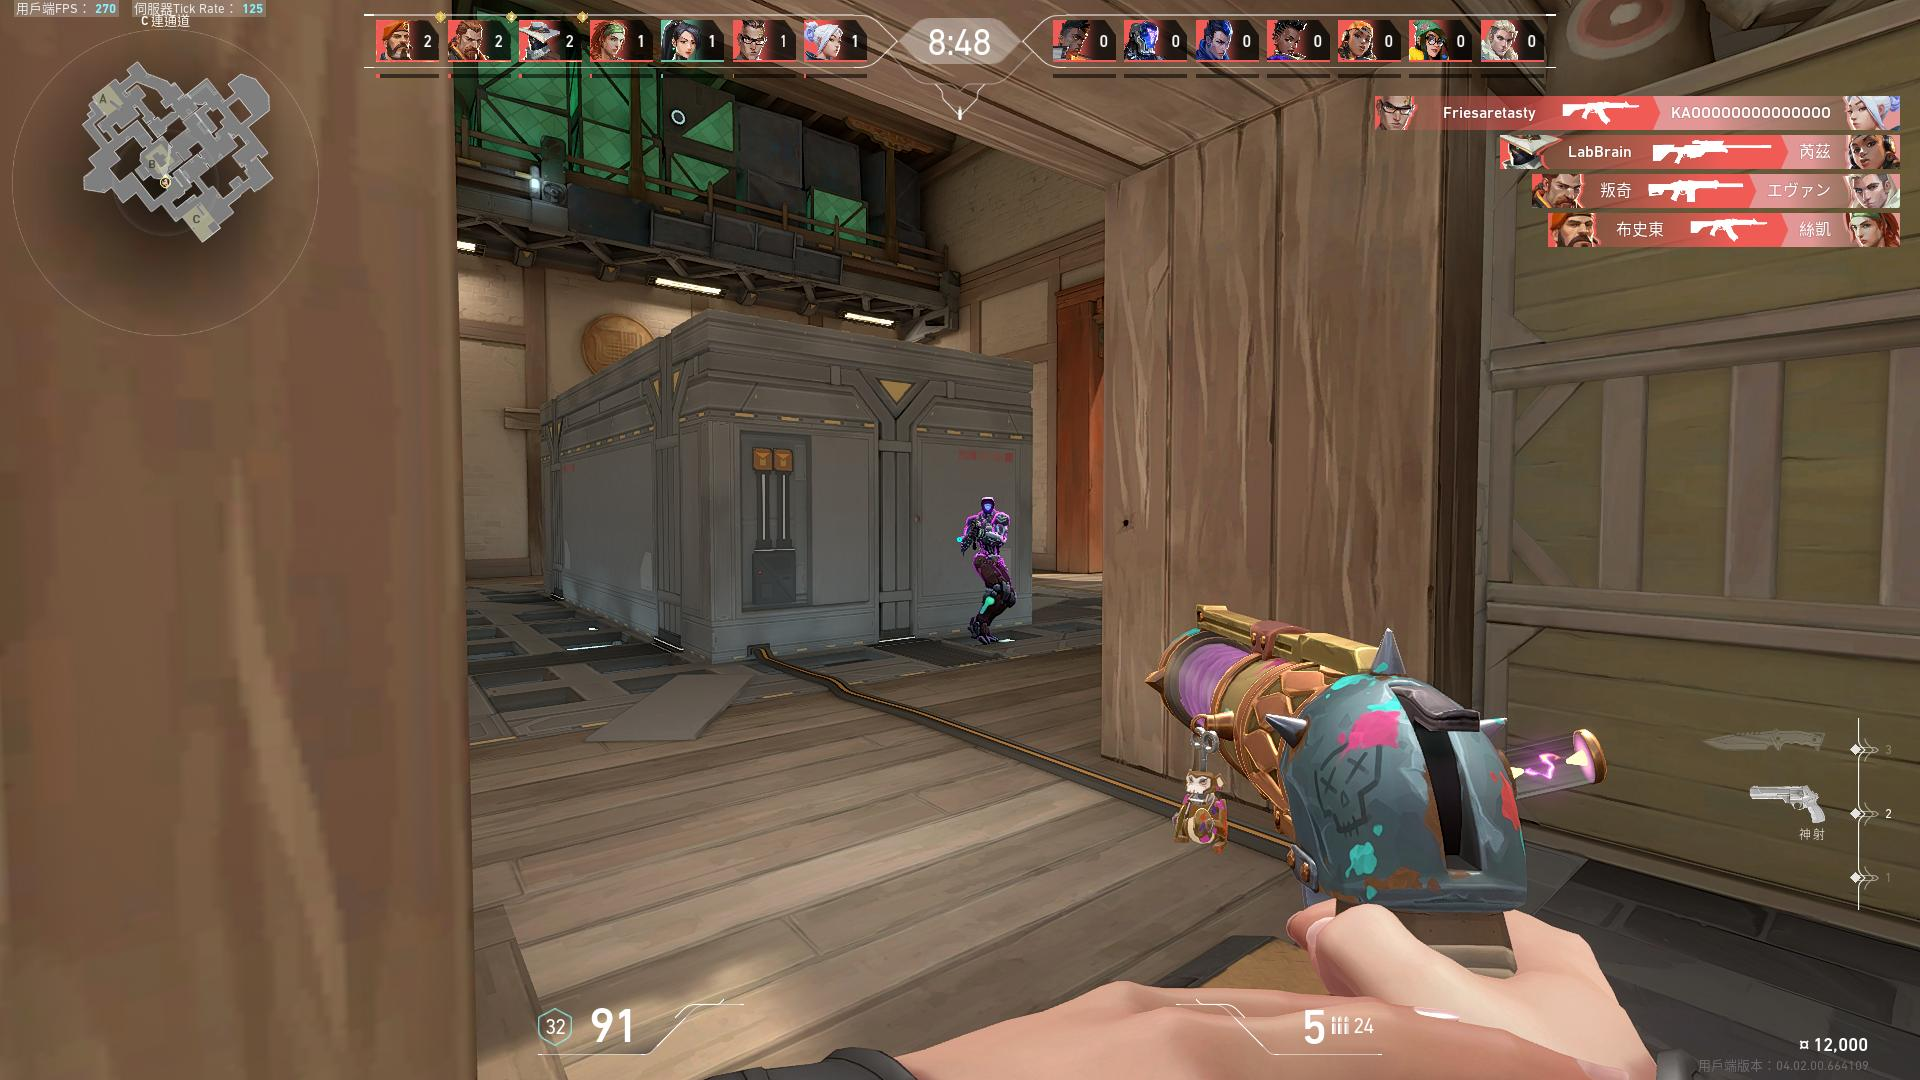enemyBody: (981, 518, 997, 555)
enemyHead: (982, 498, 994, 514)
